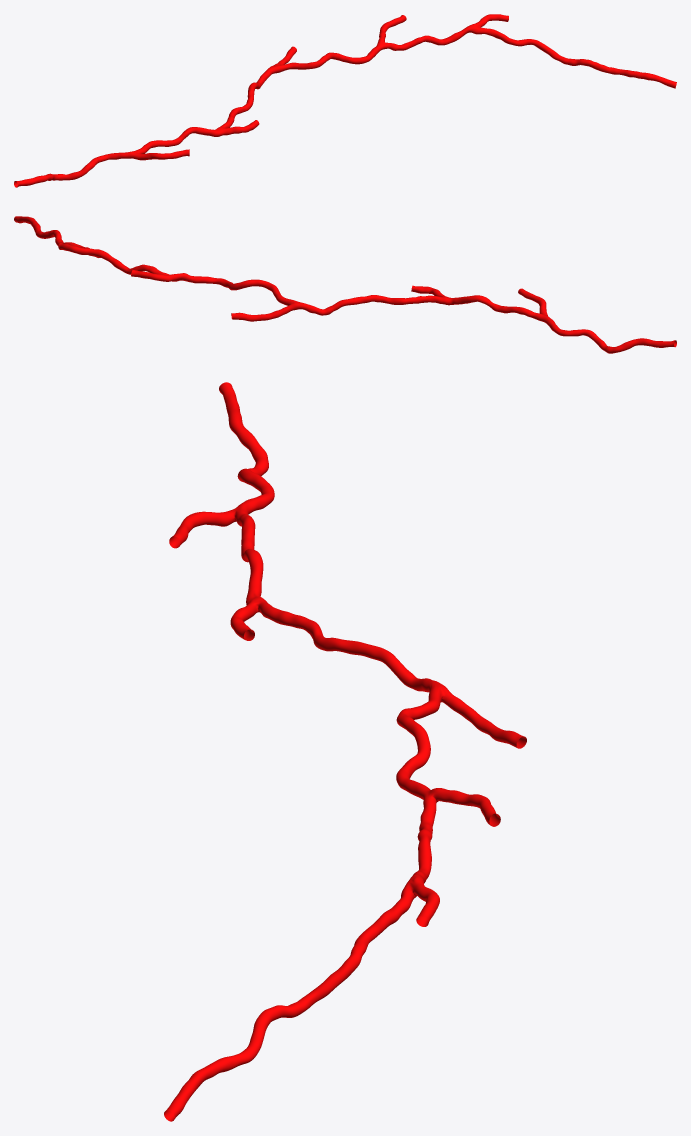
Rendered from BloodVesselPath.fbx.
3 views of the same model, one above another, from view 1: azimuth 30°, elevation 25°; view 2: azimuth 150°, elevation 25°; view 3: azimuth 270°, elevation 25° (orthographic). The views are drawn at different scales.
Parts seen in each view (by area): view 1: BézierCurve.004; view 2: BézierCurve.004; view 3: BézierCurve.004.
Part boxes in pixels (bbox=[...]): BézierCurve.004: bbox=[14, 14, 676, 187]; BézierCurve.004: bbox=[14, 216, 676, 353]; BézierCurve.004: bbox=[164, 382, 526, 1121].
Size of the model in its own units: 160237 by 14311 by 38845.
